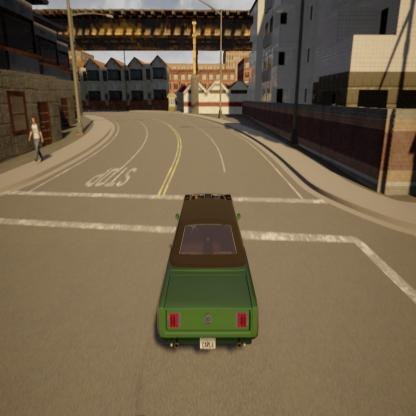Cars: (152, 186, 264, 361)
Pedestrian: (26, 110, 47, 171)
